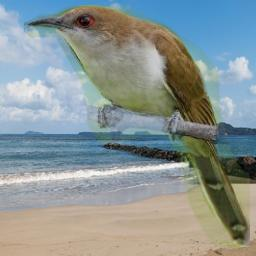Cuckoo: (24, 5, 250, 247)
